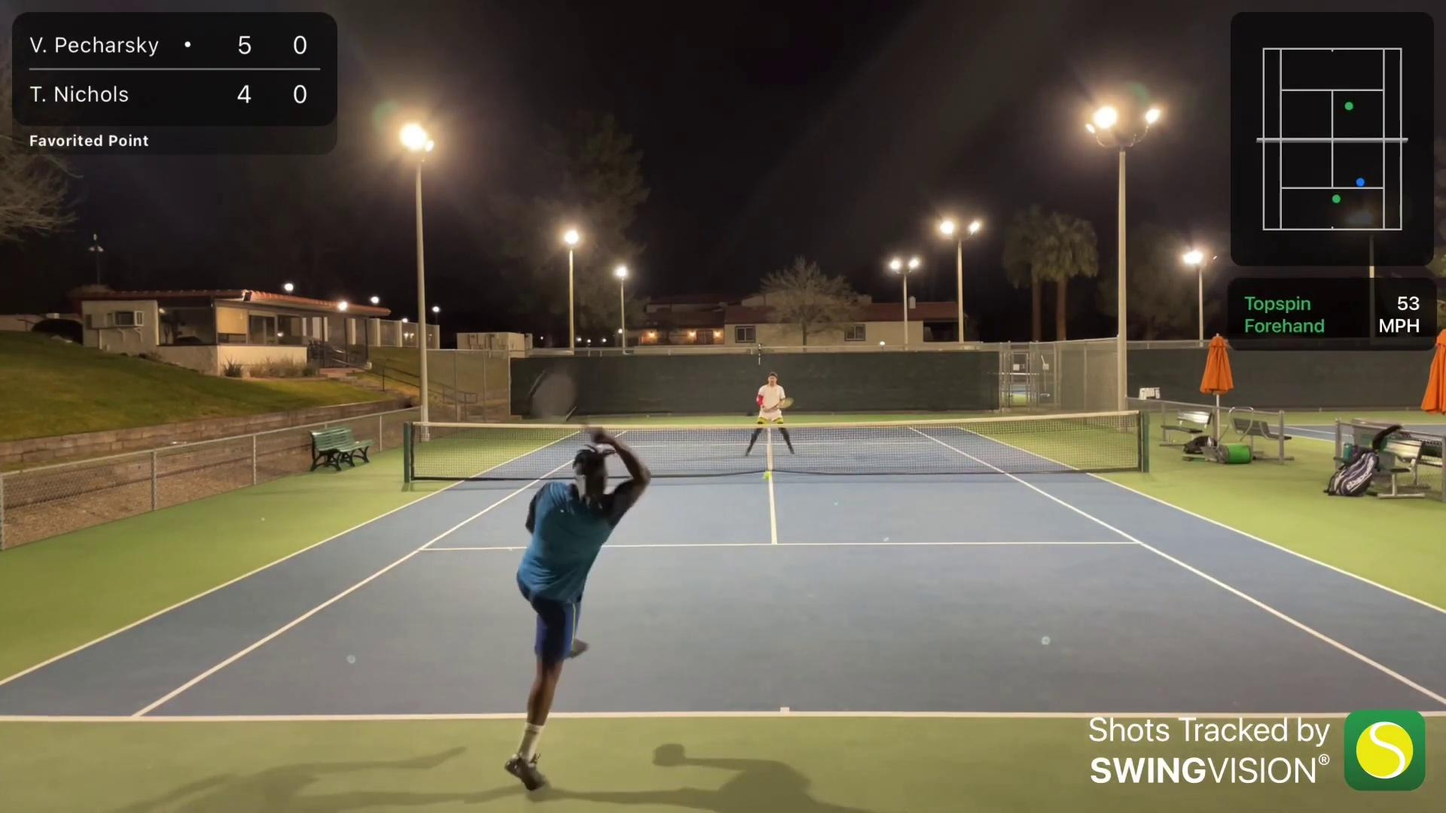ball: (760, 465, 771, 479)
